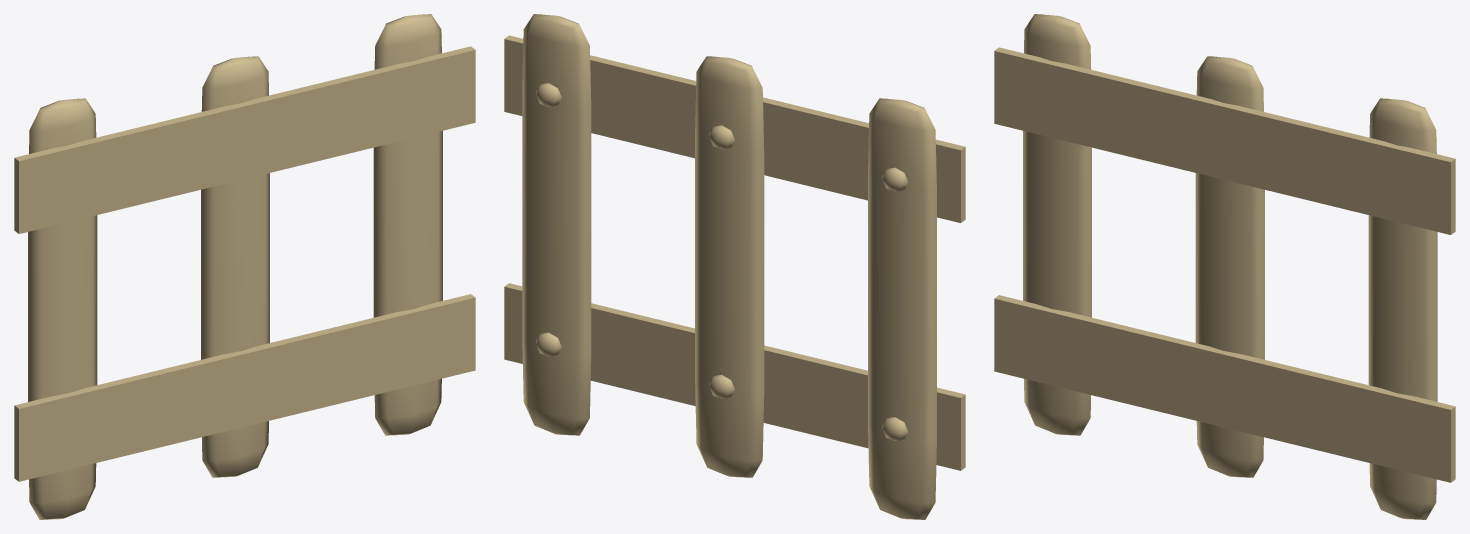
File: barriere3.fbx
The picture shows the model from 3 angles, left to right: view 1: azimuth 30°, elevation 25°; view 2: azimuth 150°, elevation 25°; view 3: azimuth 330°, elevation 25°; orthographic projection.
Visible parts, largest first — view 1: Cube.004; view 2: Cube.004; view 3: Cube.004.
Boxes of the visible parts, x1,y1,x2,y2 form: Cube.004: [14, 14, 475, 519]; Cube.004: [504, 14, 965, 519]; Cube.004: [994, 14, 1455, 519].
Bounding box in the file's own units: 787 × 690 × 63.32.
